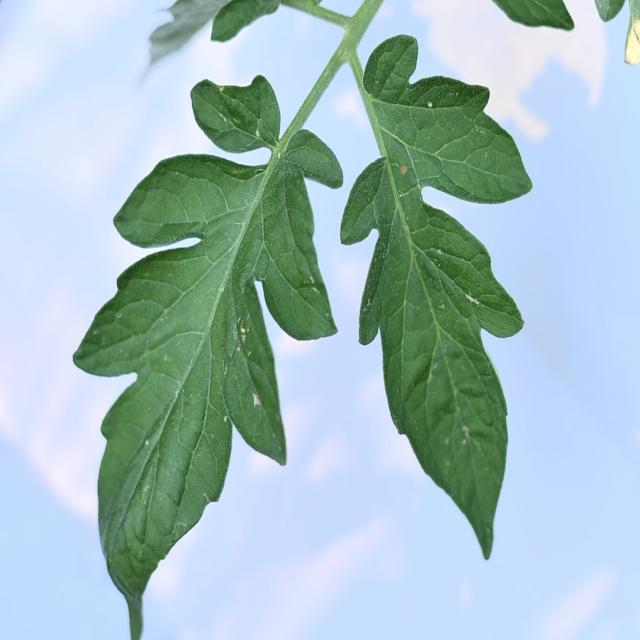healthy: (69, 67, 342, 640), (339, 32, 535, 560)
